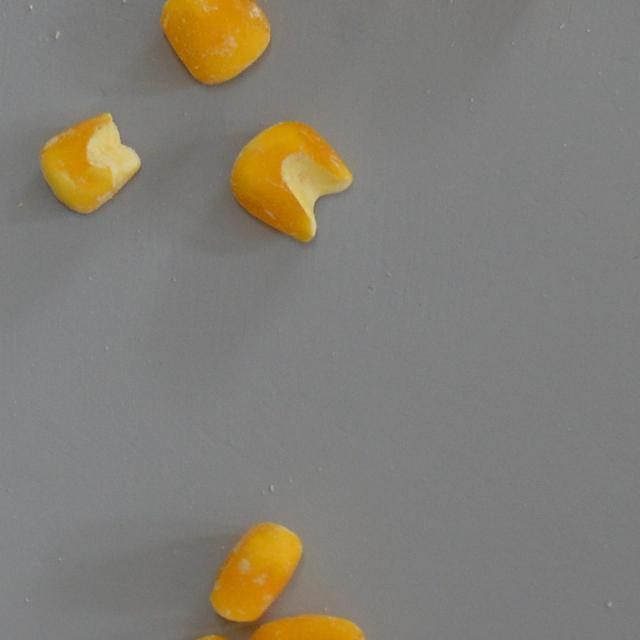pelicula: (230, 118, 352, 244), (39, 112, 142, 214), (158, 0, 270, 85), (222, 519, 290, 628)
punto_negro: (245, 616, 368, 640)
